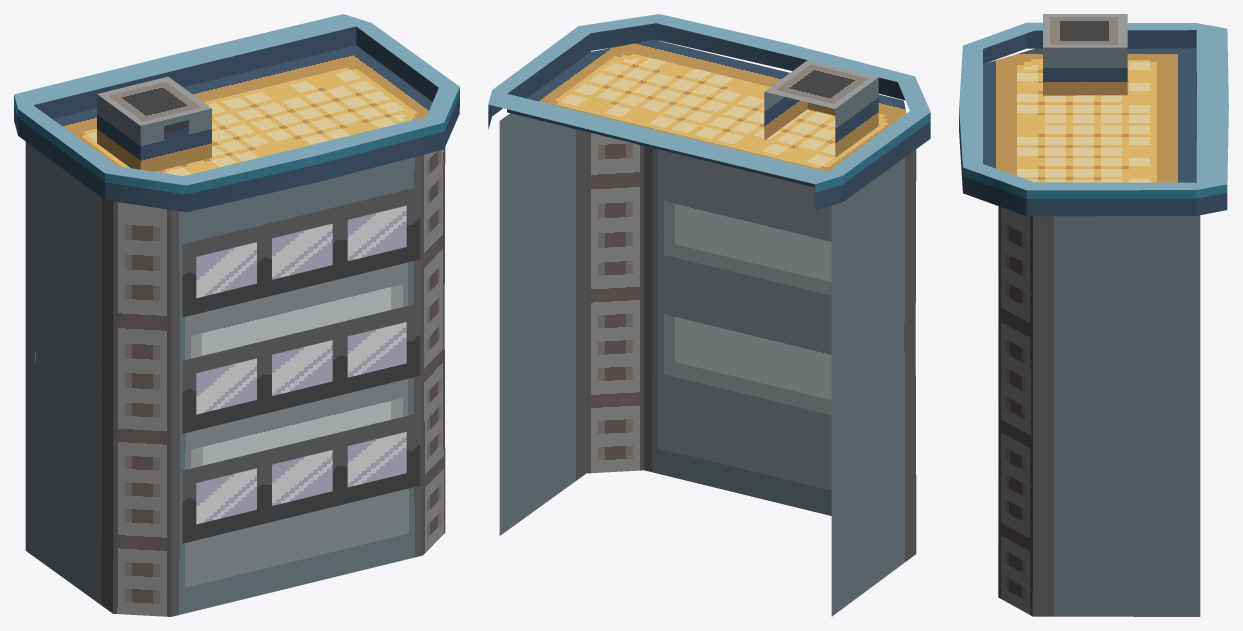
Rendered from building2.glb.
The picture shows the model from 3 angles, left to right: view 1: azimuth 30°, elevation 25°; view 2: azimuth 150°, elevation 25°; view 3: azimuth 270°, elevation 25°; orthographic projection. The views are drawn at different scales.
Parts seen in each view (by area): view 1: Goldenrod City Building 2; view 2: Goldenrod City Building 2; view 3: Goldenrod City Building 2.
Boxes of the visible parts, x1,y1,x2,y2 form: Goldenrod City Building 2: (14,14,459,616); Goldenrod City Building 2: (488,14,930,616); Goldenrod City Building 2: (959,14,1228,616).
Bounding box in the file's own units: 77.62 × 99.45 × 52.75.
3 materials, 3 textured.
